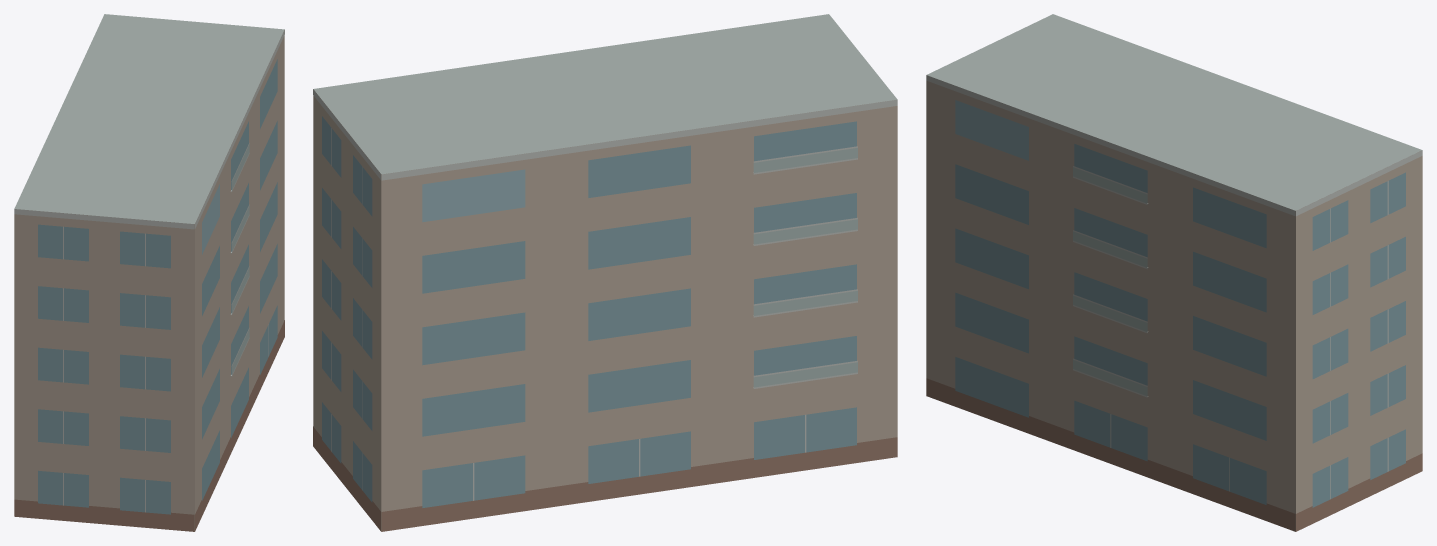
Rendered from survey-upis-32780891.glb.
The picture shows the model from 3 angles, left to right: view 1: azimuth 30°, elevation 25°; view 2: azimuth 150°, elevation 25°; view 3: azimuth 270°, elevation 25°; orthographic projection. The views are drawn at different scales.
Parts seen in each view (by area): view 1: survey-upis-32780891.tmp; view 2: survey-upis-32780891.tmp; view 3: survey-upis-32780891.tmp.
Part boxes in pixels (x1,y1,x2,y2): survey-upis-32780891.tmp: (14, 14, 284, 531); survey-upis-32780891.tmp: (313, 14, 897, 531); survey-upis-32780891.tmp: (926, 14, 1422, 531).
Size of the model in its own units: 18.49 by 14.05 by 19.69.
